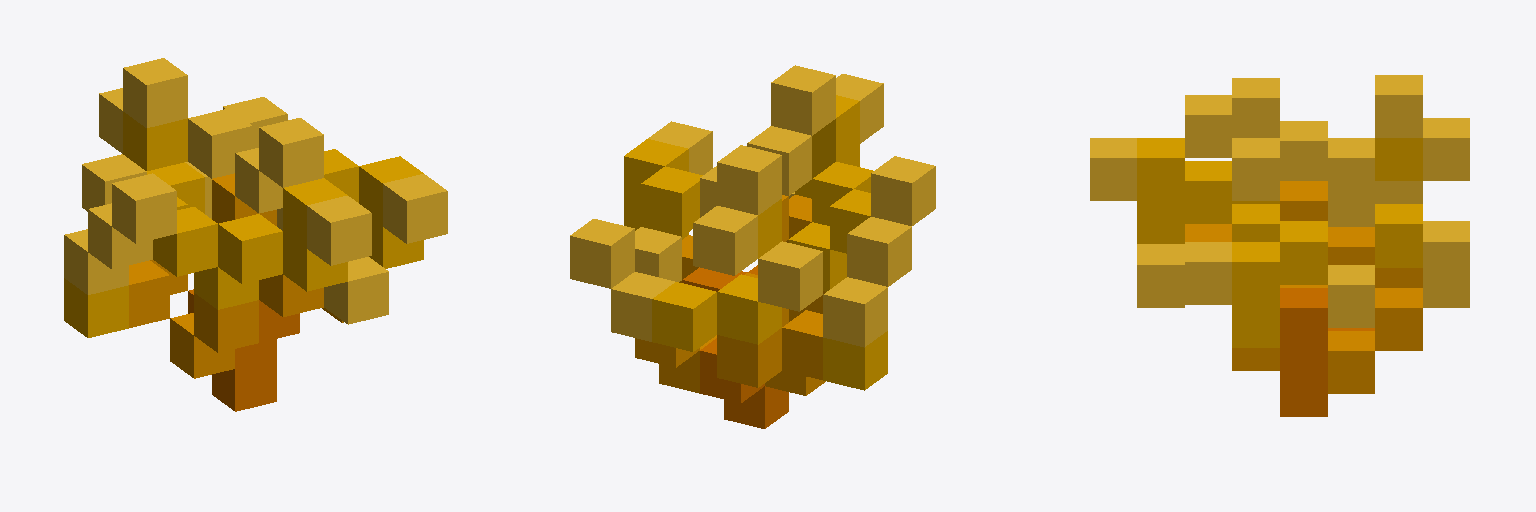
3 views of the same model, side by side, from view 1: azimuth 30°, elevation 25°; view 2: azimuth 150°, elevation 25°; view 3: azimuth 270°, elevation 25° (orthographic).
Parts seen in each view (by area): view 1: object 1; view 2: object 1; view 3: object 1.
Part boxes in pixels (left/top/right/bottom): object 1: left=64, top=58, right=447, bottom=411; object 1: left=570, top=65, right=935, bottom=428; object 1: left=1090, top=75, right=1469, bottom=416.
Bounding box in the file's own units: 0.7 × 0.7 × 0.8.
1 materials, 1 textured.